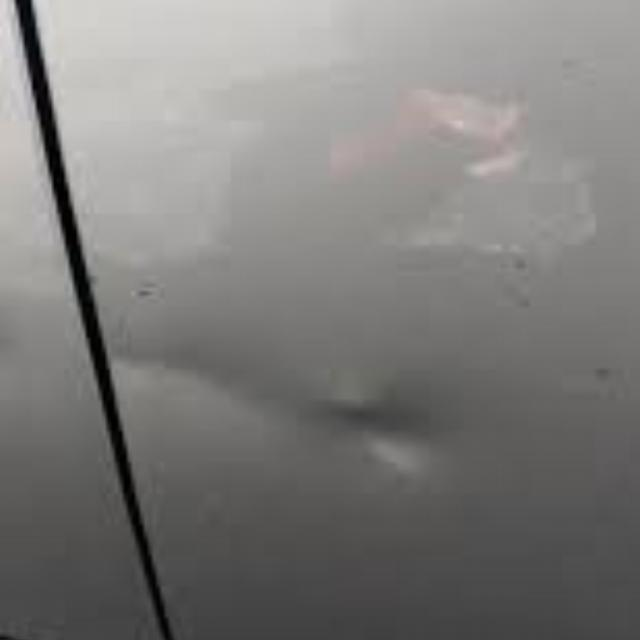dents: (110, 323, 485, 502)
